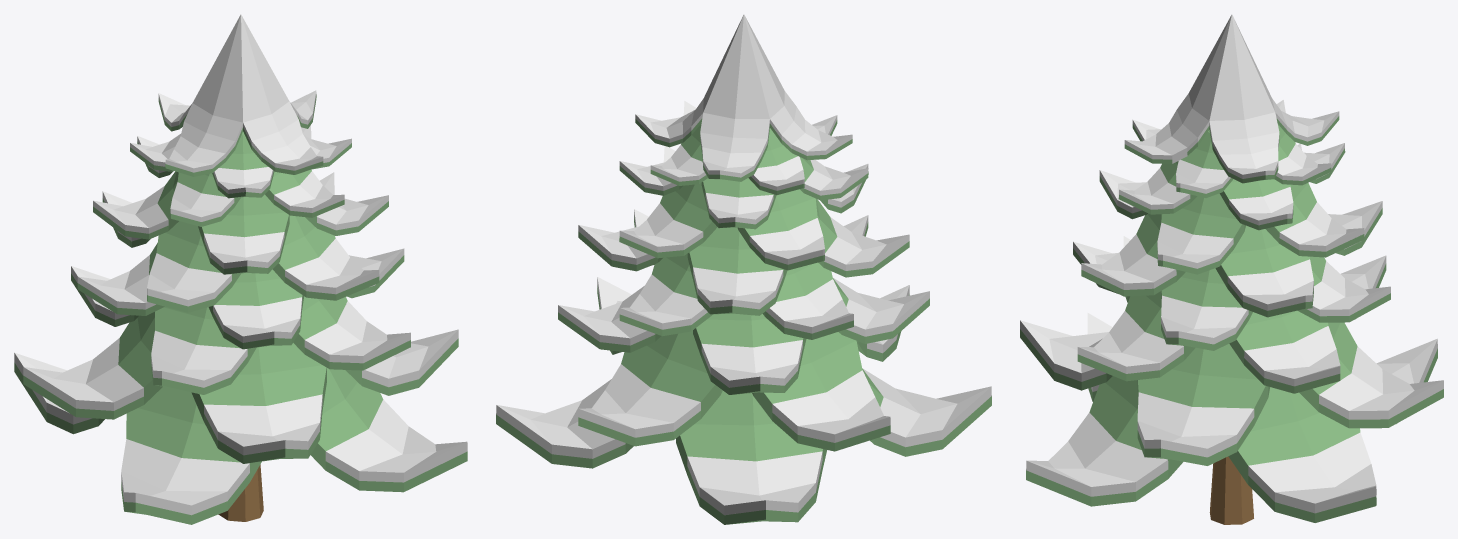
File: PineTree_Snow.glb
The picture shows the model from 3 angles, left to right: view 1: azimuth 30°, elevation 25°; view 2: azimuth 150°, elevation 25°; view 3: azimuth 270°, elevation 25°; orthographic projection.
Visible parts, largest first — view 1: PineTree_Snow; view 2: PineTree_Snow; view 3: PineTree_Snow.
Part boxes in pixels (left/top/right/bottom): PineTree_Snow: left=14, top=14, right=467, bottom=524; PineTree_Snow: left=496, top=14, right=991, bottom=524; PineTree_Snow: left=1020, top=14, right=1443, bottom=524.
Bounding box in the file's own units: 5.12 × 6.69 × 5.12.
